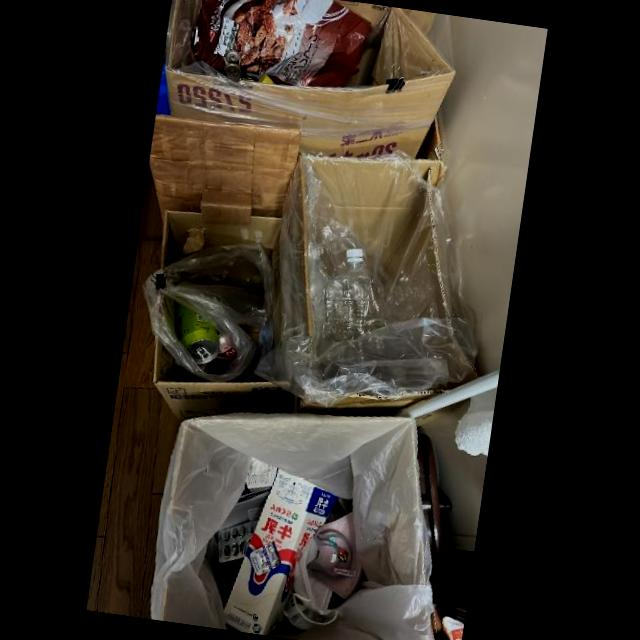bao_bi_thuc_pham: (192, 0, 372, 87)
chai_nhua_pet: (322, 249, 385, 342)
khau_trang: (293, 538, 335, 623)
nhom: (174, 301, 220, 365), (217, 519, 259, 563)
vo_hop_sua: (223, 469, 338, 636)
